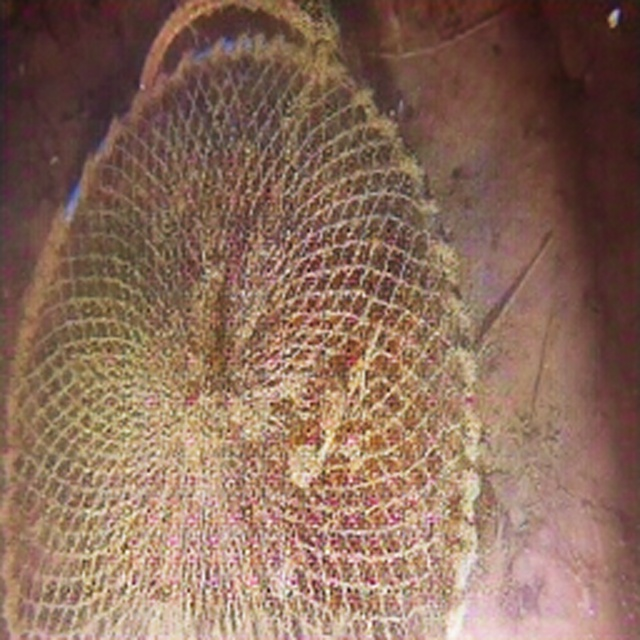mine: (0, 35, 480, 639)
